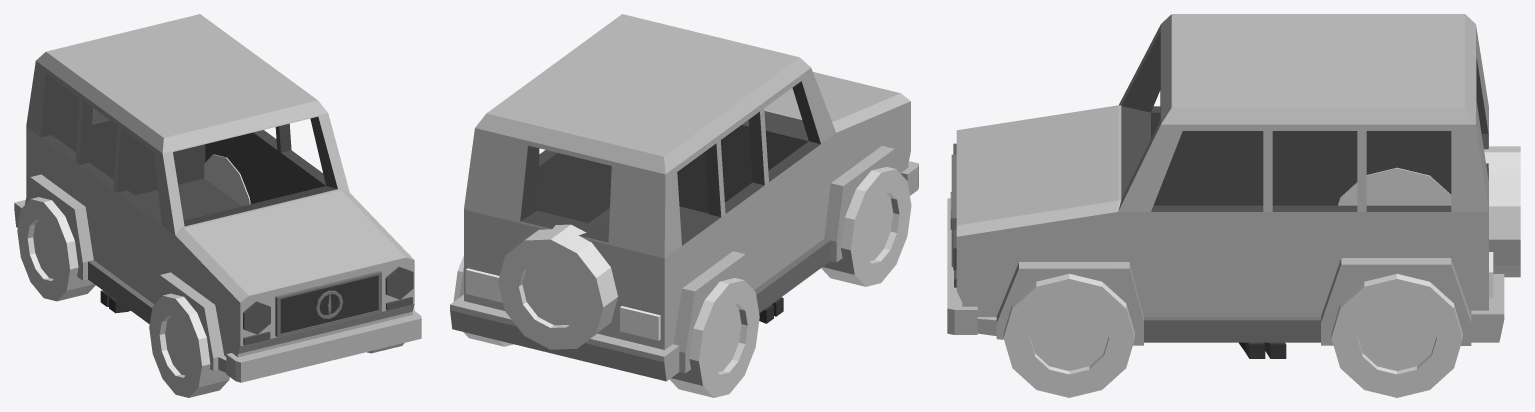
Rendered from g class.fbx.
3 renders of one model, left to right at view 1: azimuth 30°, elevation 25°; view 2: azimuth 150°, elevation 25°; view 3: azimuth 270°, elevation 25°, orthographic. The views are drawn at different scales.
Parts seen in each view (by area): view 1: Cube, Model_0.003, Model_0.004, Model_0.002; view 2: Cube, Model_0.005, Model_0.003, Model_0.004, Model_0.002; view 3: Cube, Model_0.001, Model_0.002, Model_0.005, Model_0.004.
Part boxes in pixels (x1,y1,x2,y2): Cube: (14,14,421,382); Model_0.003: (149,293,229,397); Model_0.004: (17,197,95,301); Model_0.002: (204,154,250,206); Cube: (450,14,918,381); Model_0.005: (498,224,617,349); Model_0.003: (821,167,911,286); Model_0.004: (669,278,759,397); Model_0.002: (453,255,513,346); Cube: (947,14,1504,358); Model_0.001: (1003,273,1134,397); Model_0.002: (1331,274,1462,397); Model_0.005: (1484,146,1520,277); Model_0.004: (1338,167,1451,205).
Bounding box in the file's own units: 276 × 271 × 518.
